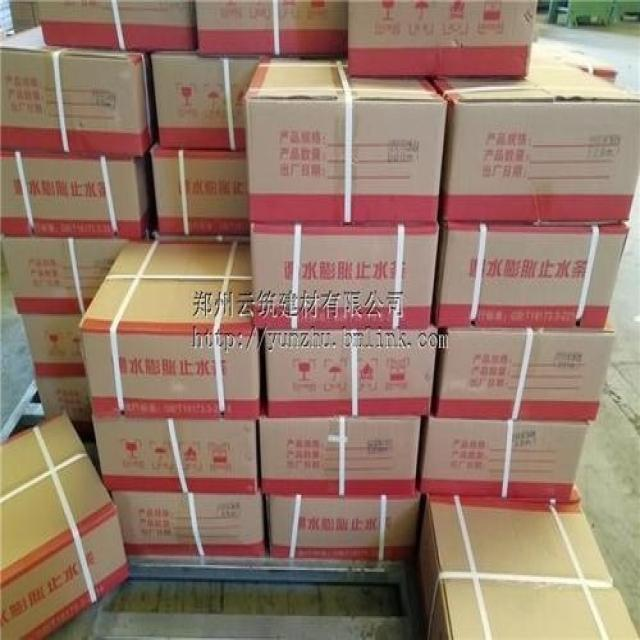box: (429, 49, 640, 224), (416, 486, 639, 640), (244, 55, 448, 222), (78, 241, 260, 418), (0, 408, 132, 640), (247, 220, 442, 329), (0, 22, 157, 157), (433, 222, 631, 328), (430, 312, 617, 423), (259, 391, 424, 495), (261, 323, 439, 416), (417, 413, 590, 502), (347, 0, 538, 77), (0, 147, 154, 237), (92, 418, 257, 493), (111, 478, 266, 556), (147, 48, 262, 148), (264, 492, 421, 561), (0, 237, 132, 314), (148, 140, 248, 236), (193, 0, 347, 56), (36, 0, 198, 49), (36, 375, 100, 474), (18, 314, 86, 375), (8, 2, 38, 32)
